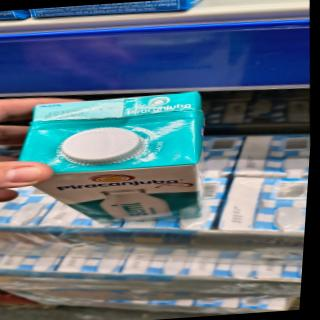Milk: (21, 86, 207, 184)
